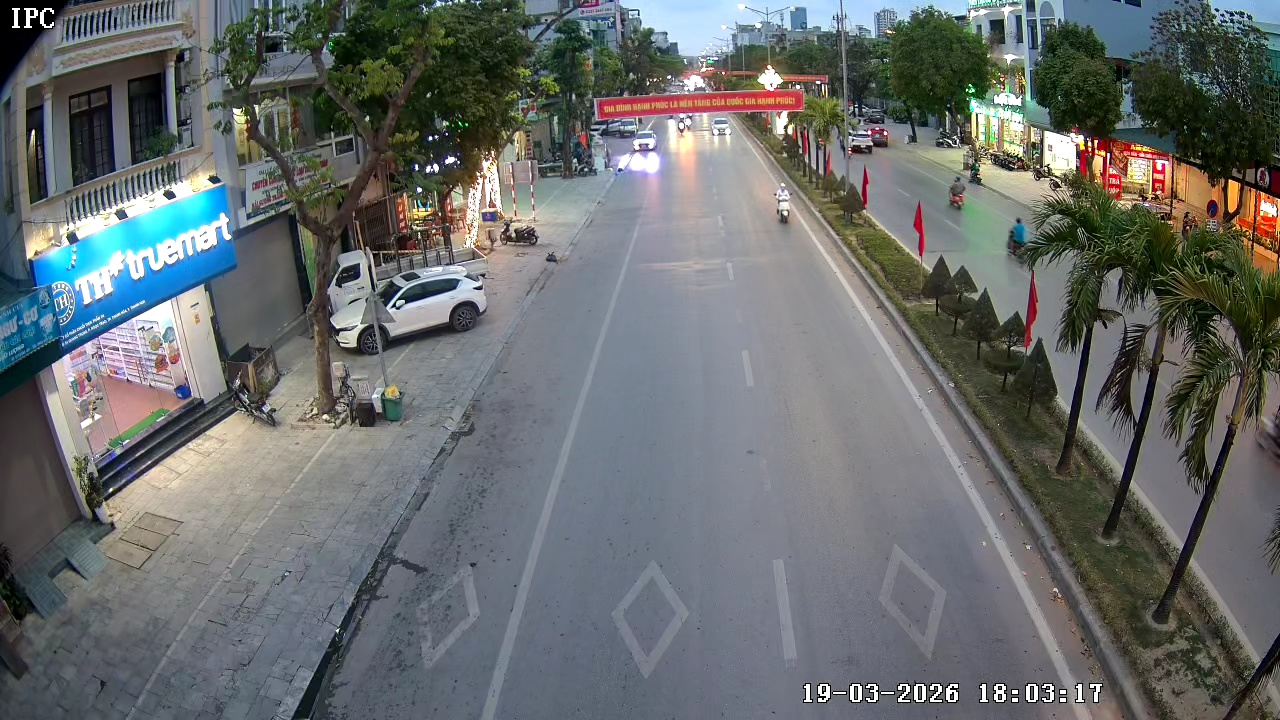car: (330, 263, 488, 352), (629, 128, 660, 152), (846, 127, 874, 153), (709, 116, 734, 136)
motorbike: (946, 166, 968, 212), (774, 182, 793, 226), (675, 117, 688, 135)
